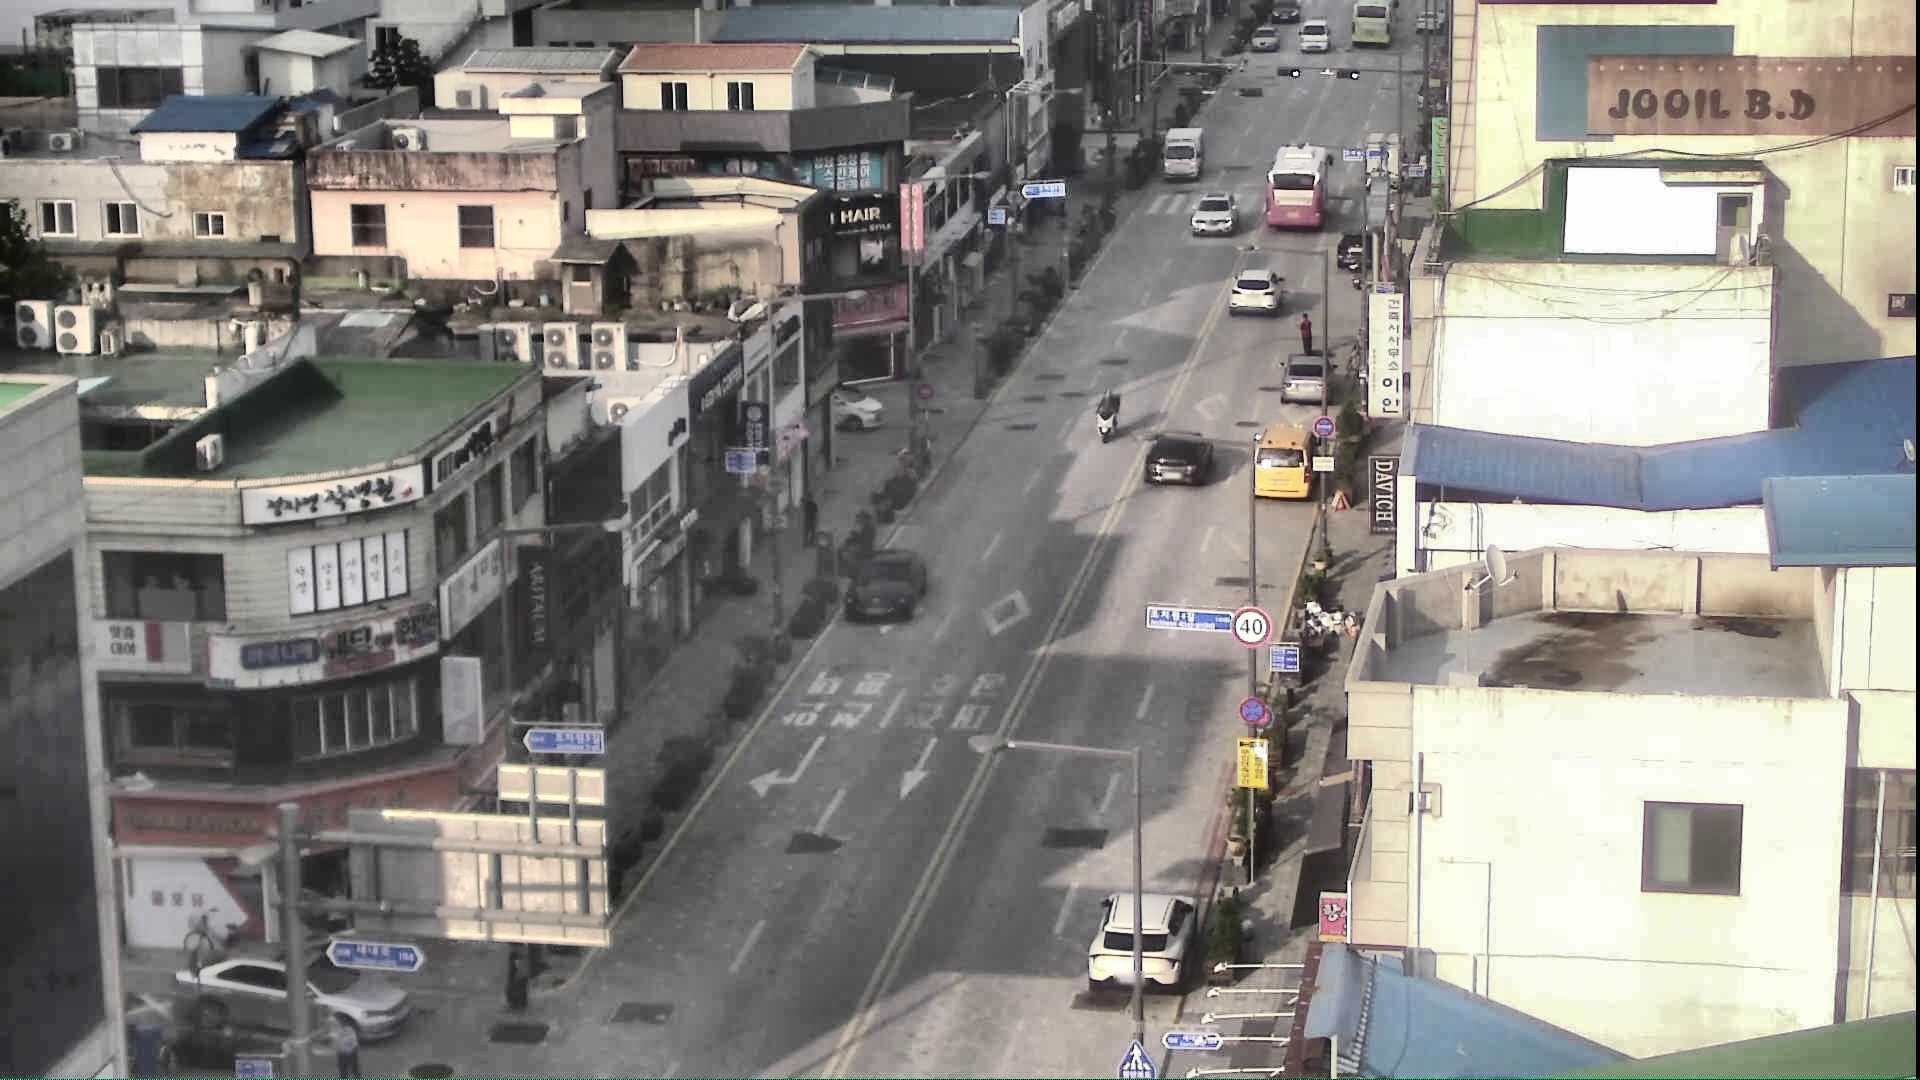jaywalk: (493, 931, 537, 1018), (1294, 309, 1317, 353)
sidewalk: (796, 491, 819, 553)
